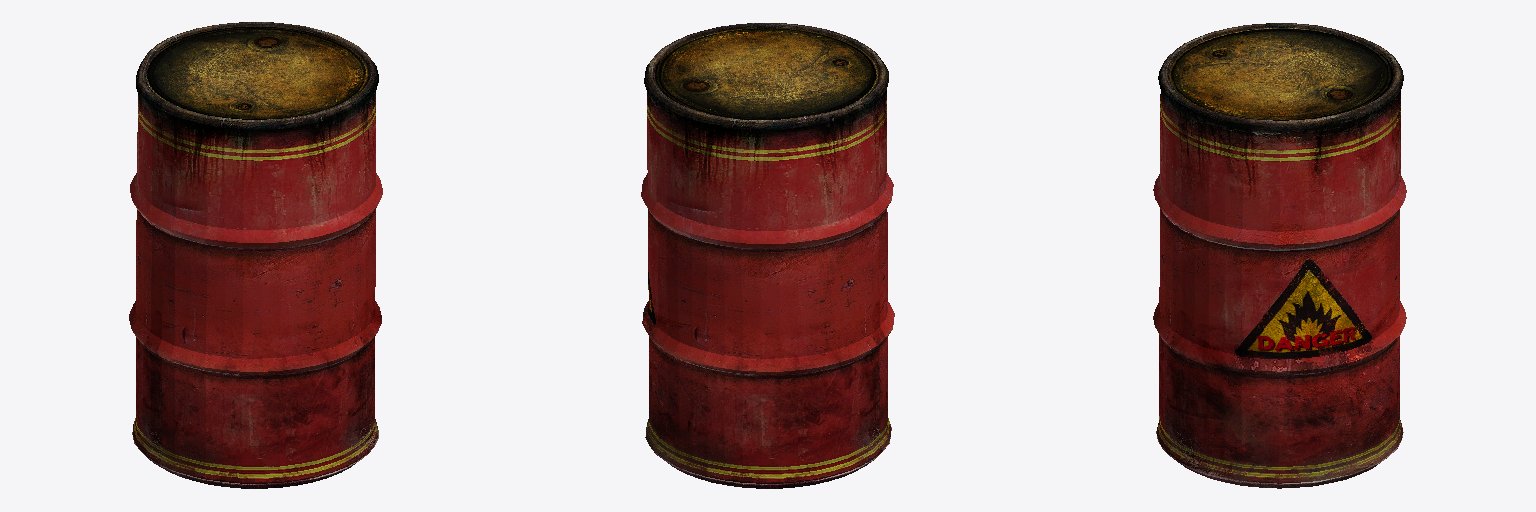
3 views of the same model, side by side, from view 1: azimuth 30°, elevation 25°; view 2: azimuth 150°, elevation 25°; view 3: azimuth 270°, elevation 25° (orthographic).
Size of the model in its own units: 1.66 by 2.65 by 1.65.
Materials: 2 (2 with a texture image).